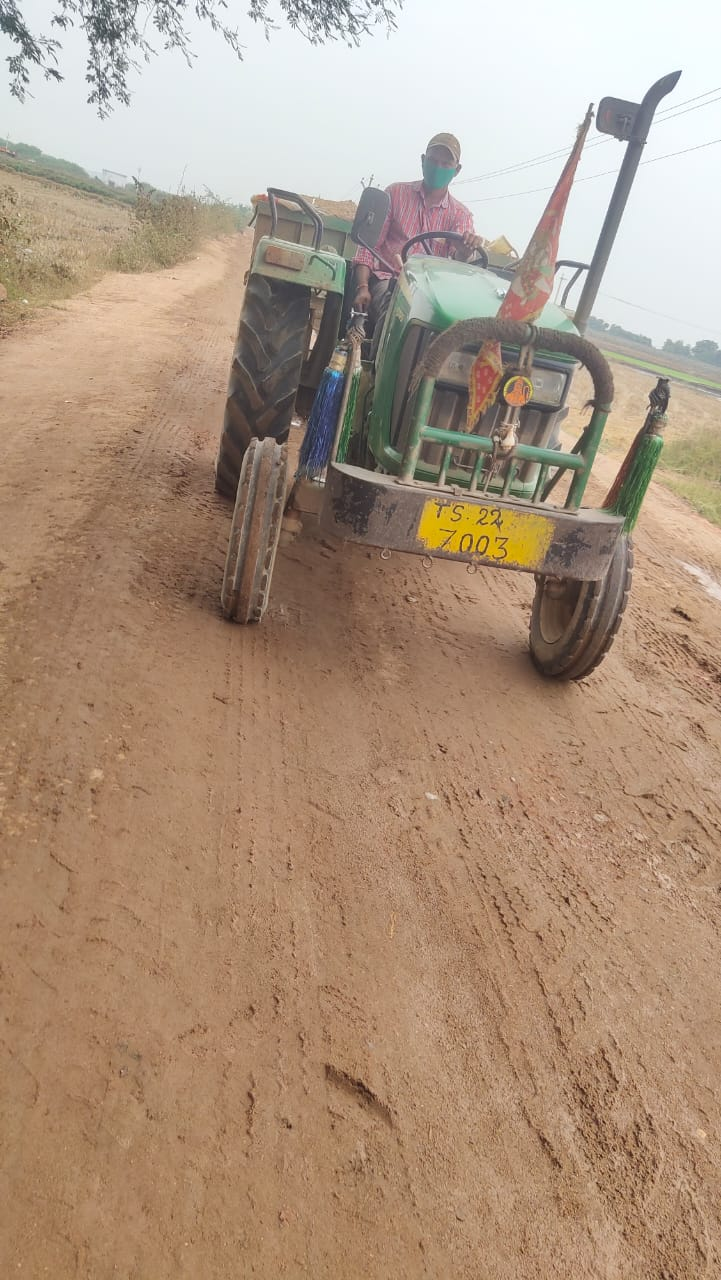num_plate: (409, 492, 543, 568)
